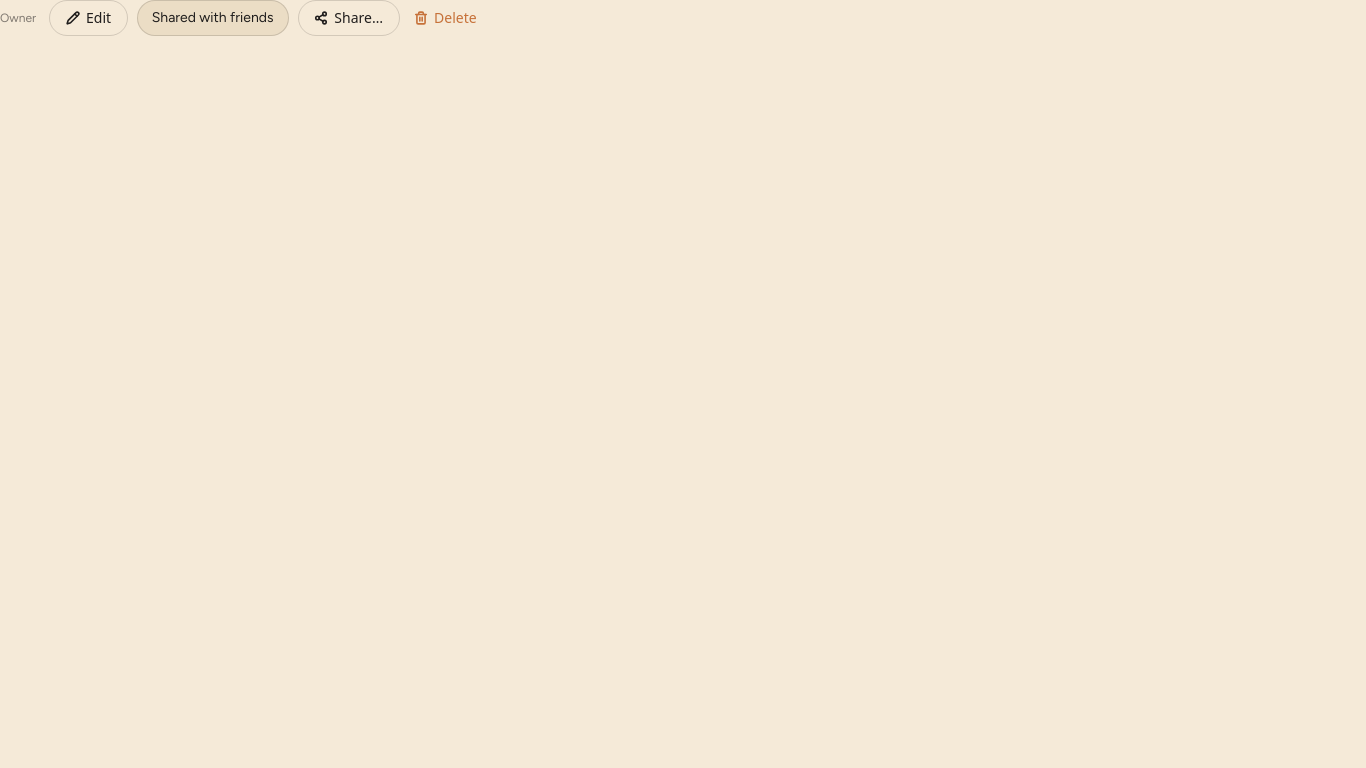
Test: OwnerActions › UI-51 enables Save at once when Share… opens on friends the recipe is already shared with
Click the button "Share…": (349, 18) [298,0,400,36]
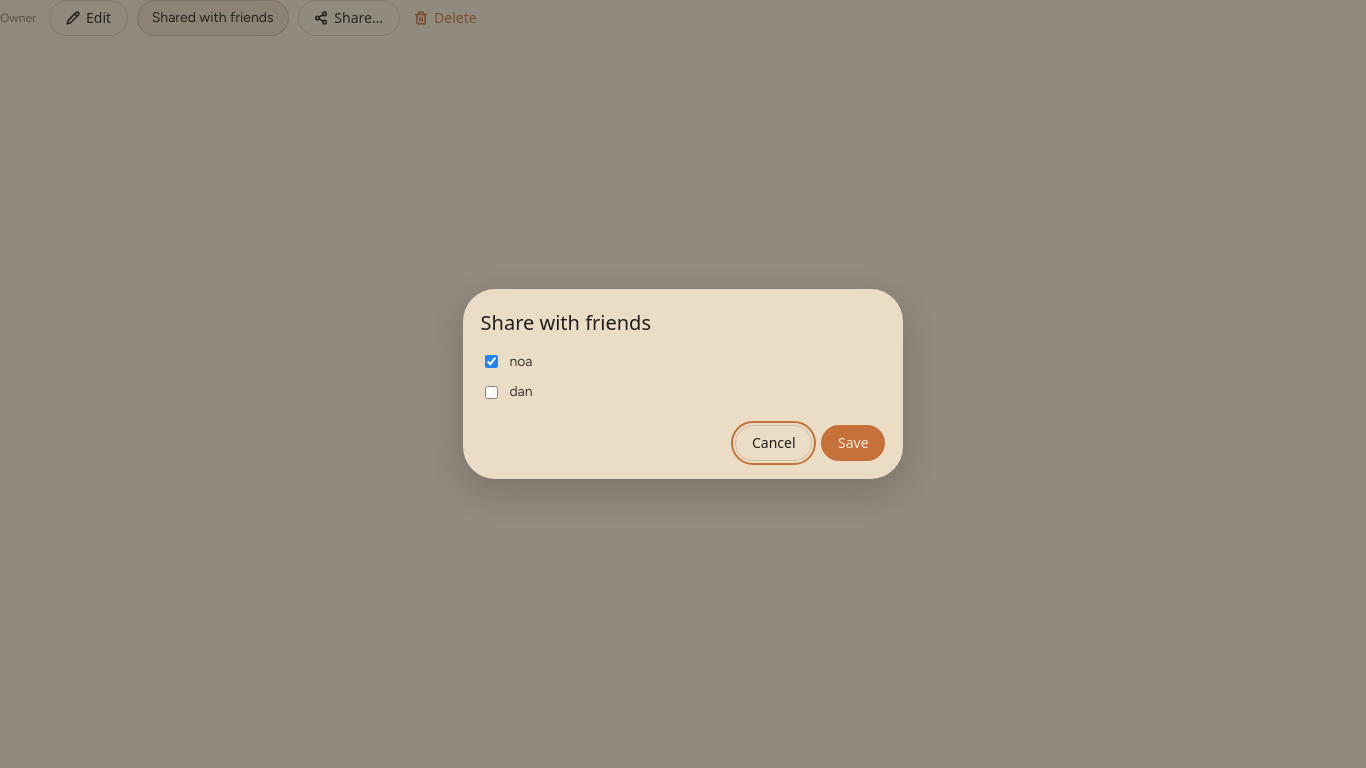
Expected: the checkbox labelled "noa" is checked
Expected: the button "Save" is enabled, [821,425,885,461]
Click the checkbox labelled "noa": (491, 362) [485,355,498,368]
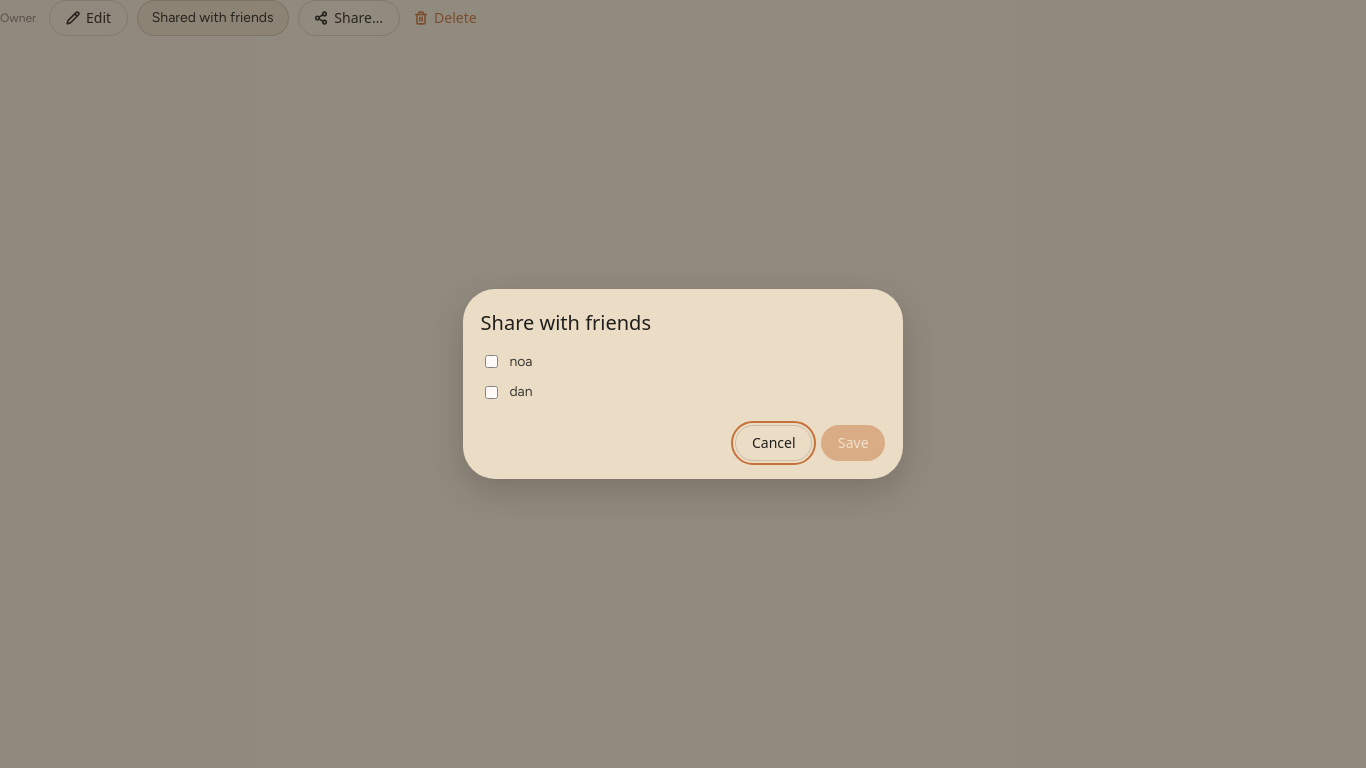
Expected: the button "Save" is disabled, [821,425,885,461]
